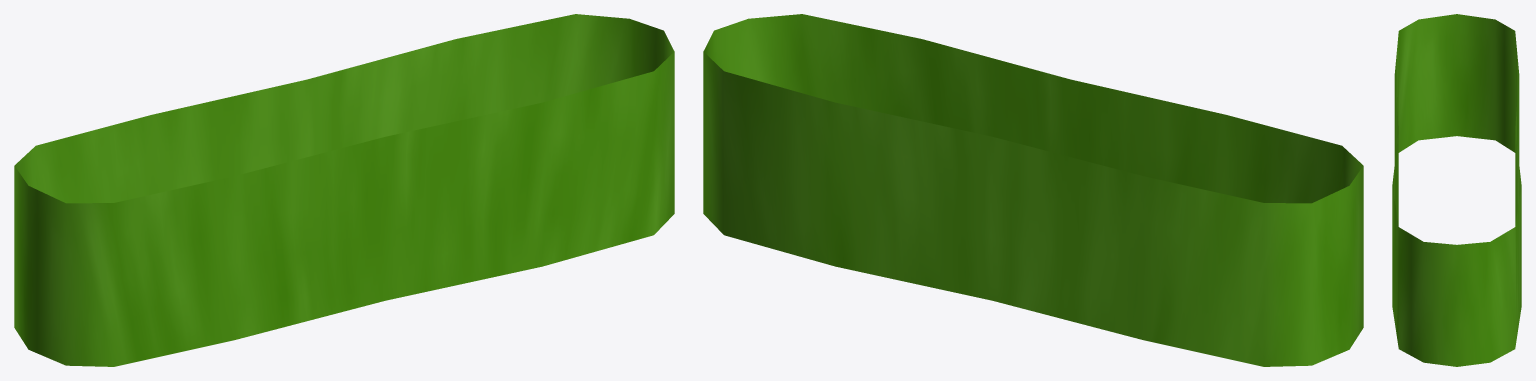
File: SM_corrosif_hitbox.FBX
3 views of the same model, side by side, from view 1: azimuth 30°, elevation 25°; view 2: azimuth 150°, elevation 25°; view 3: azimuth 270°, elevation 25° (orthographic). The views are drawn at different scales.
Parts seen in each view (by area): view 1: corrosif_hitbox; view 2: corrosif_hitbox; view 3: corrosif_hitbox.
Boxes of the visible parts, left/top/right/bottom form: corrosif_hitbox: left=14, top=14, right=674, bottom=366; corrosif_hitbox: left=703, top=14, right=1363, bottom=366; corrosif_hitbox: left=1392, top=14, right=1521, bottom=366.
Bounding box in the file's own units: 912 × 225 × 216.
